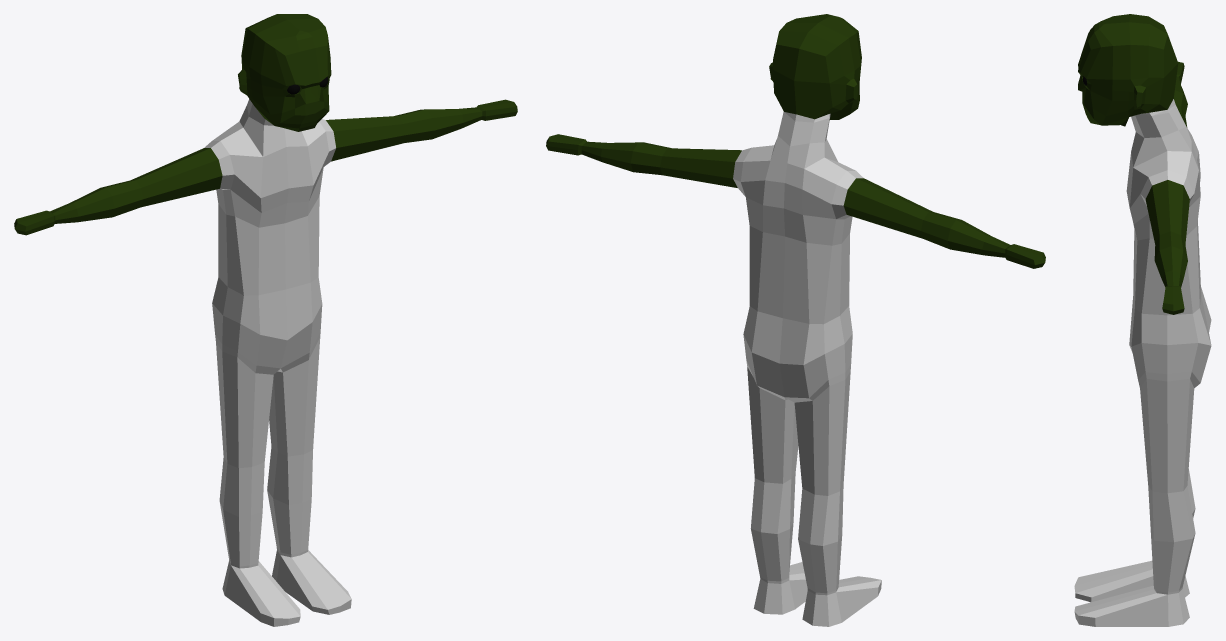
The model's file is Standed_Zombie.obj.
3 views of the same model, side by side, from view 1: azimuth 30°, elevation 25°; view 2: azimuth 150°, elevation 25°; view 3: azimuth 270°, elevation 25° (orthographic).
Visible parts, largest first — view 1: zombie_Cube.005; view 2: zombie_Cube.005; view 3: zombie_Cube.005.
Part boxes in pixels (bbox=[...]): zombie_Cube.005: bbox=[14, 14, 517, 626]; zombie_Cube.005: bbox=[546, 14, 1045, 626]; zombie_Cube.005: bbox=[1074, 14, 1211, 626].
Bounding box in the file's own units: 5.37 × 5.92 × 1.26.
